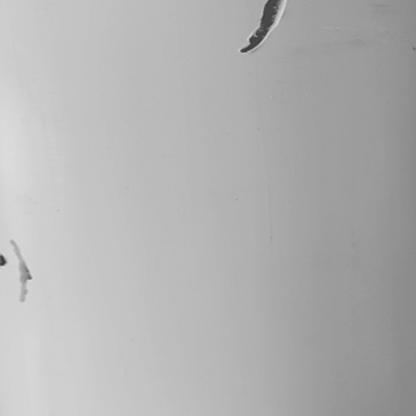kongdong: (4, 230, 47, 306), (236, 1, 286, 53)
